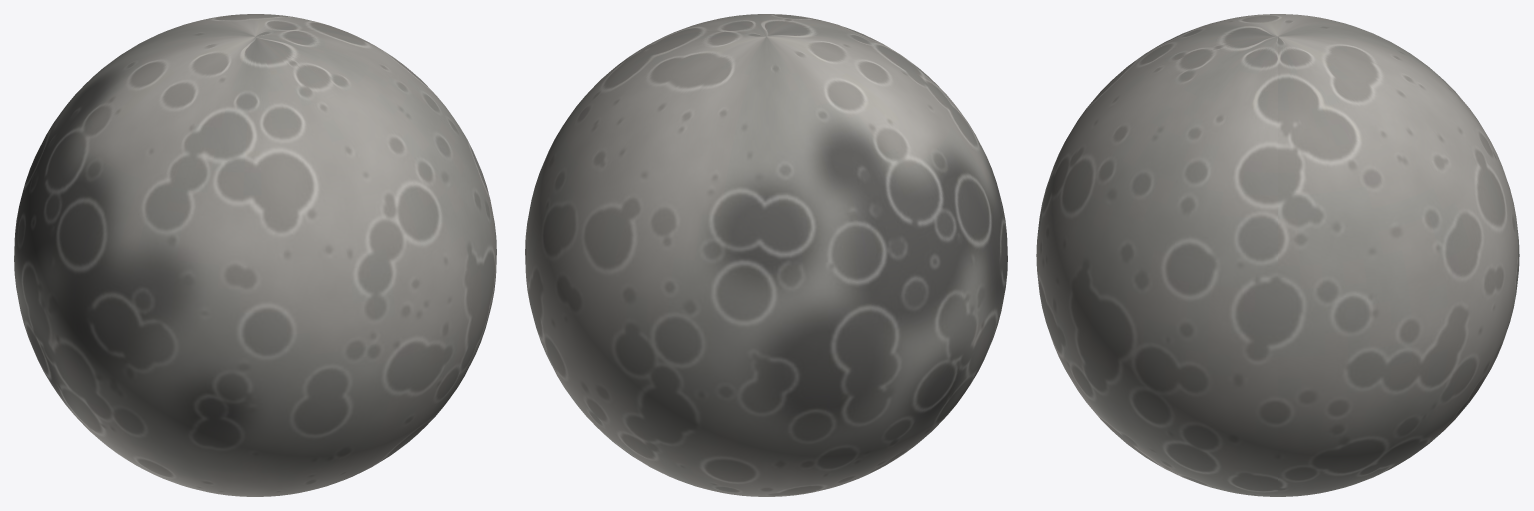
The model's file is planet_moon.glb.
3 views of the same model, side by side, from view 1: azimuth 30°, elevation 25°; view 2: azimuth 150°, elevation 25°; view 3: azimuth 270°, elevation 25° (orthographic).
Parts seen in each view (by area): view 1: planet_moon; view 2: planet_moon; view 3: planet_moon.
Boxes of the visible parts, <box> form: planet_moon: <box>14,14,496,496</box>; planet_moon: <box>525,14,1007,496</box>; planet_moon: <box>1036,14,1519,496</box>.
Size of the model in its own units: 1 by 1 by 1.
1 material, 1 textured.
